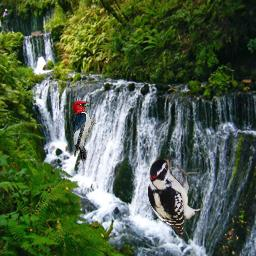Woodpecker: (148, 155, 203, 239), (71, 101, 98, 166)
